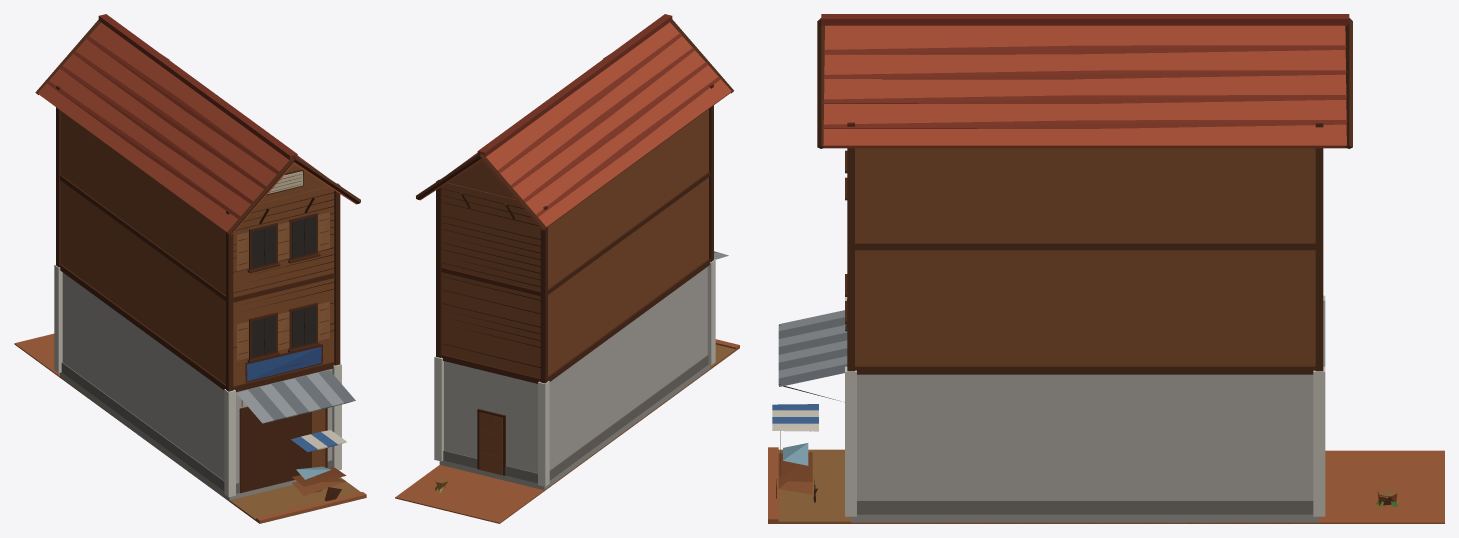
File: bay2_mid.glb
The picture shows the model from 3 angles, left to right: view 1: azimuth 30°, elevation 25°; view 2: azimuth 150°, elevation 25°; view 3: azimuth 270°, elevation 25°; orthographic projection. The views are drawn at different scales.
Visible parts, largest first — view 1: body, windows; view 2: body; view 3: body.
Part boxes in pixels (box(x1,y1,x2,y2)): body: box(14, 14, 366, 523); windows: box(252, 216, 316, 357); body: box(395, 14, 739, 523); body: box(768, 14, 1444, 523).
Bounding box in the file's own units: 5.02 × 12.4 × 15.9.
